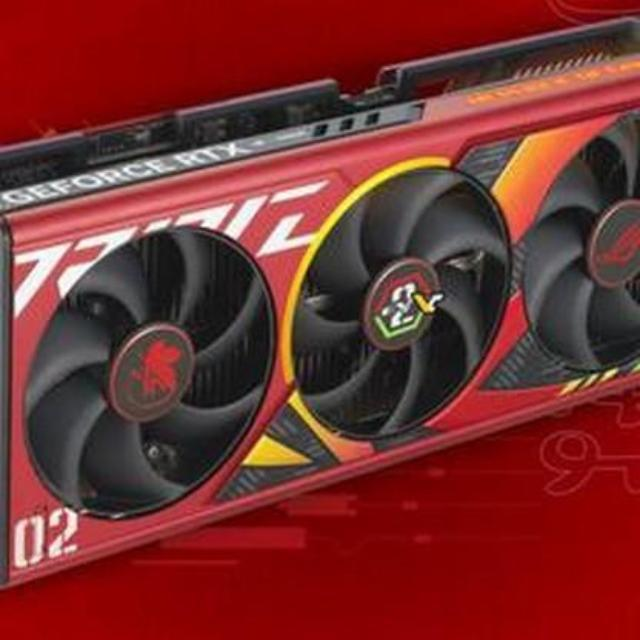GPU: (0, 14, 640, 600)
